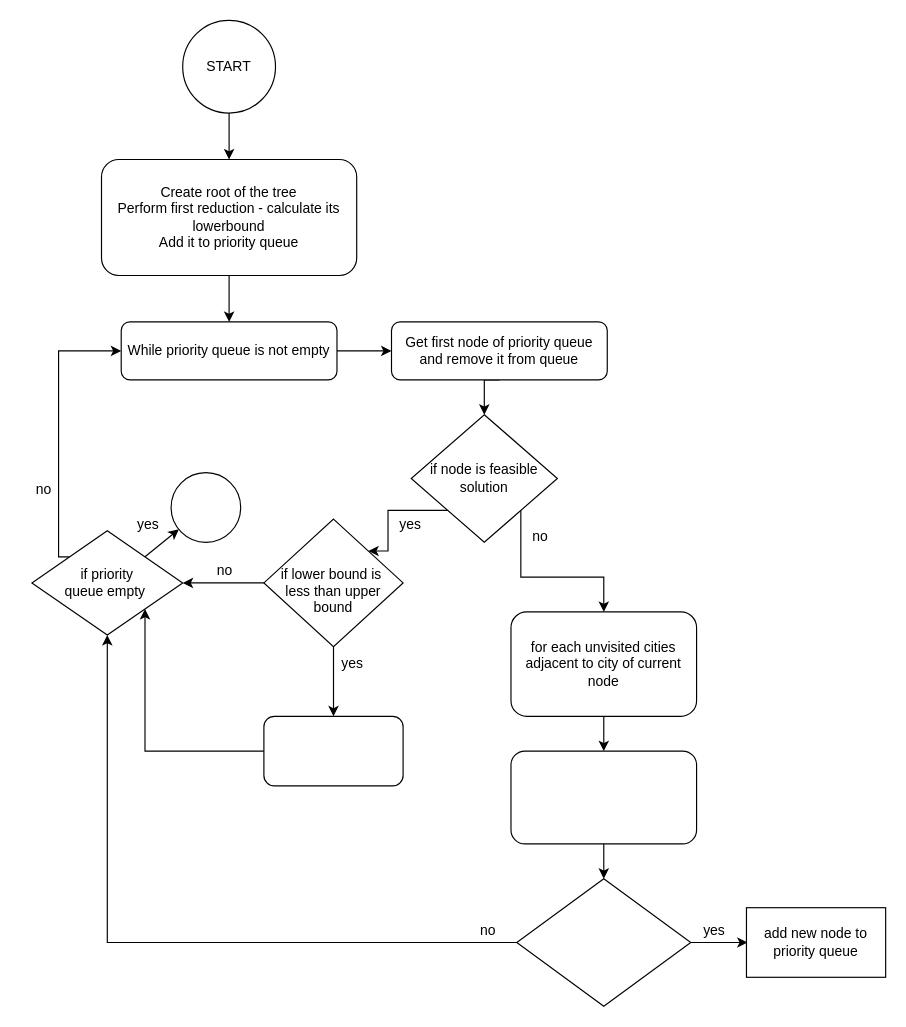
Image size: 906x1027. Some labels were removed from this diagram. The shapes that lost their labels are listed below. From the top down, each one's box as (x1, y1, x2, y2) in pixels, then its label:
(170, 472, 241, 542): STOP
(263, 715, 403, 786): update best solution update upper bound
(510, 750, 697, 844): create new node perform reduction of matrix and calculate lowerbound
(516, 878, 691, 1006): if lowerbound is lower than upperbound
